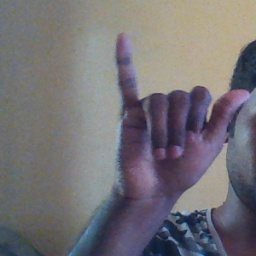J: (105, 30, 250, 200)
